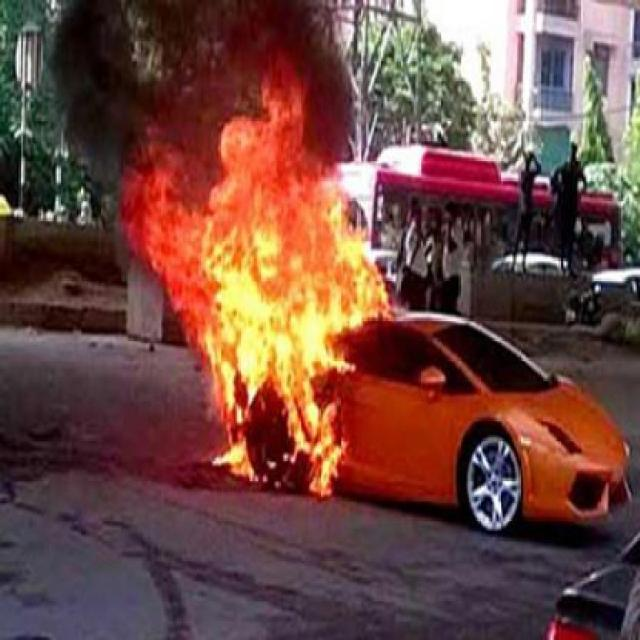Fire: (117, 116, 378, 520)
Smoke: (50, 8, 354, 106)
